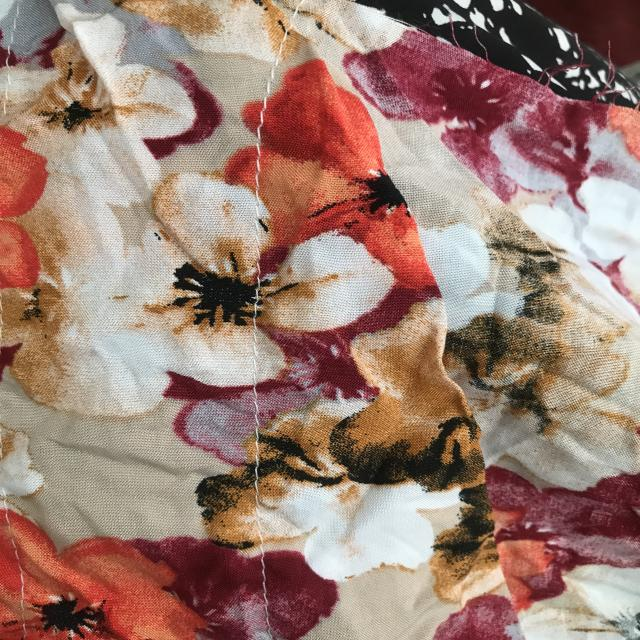good: (243, 387, 283, 499), (248, 104, 273, 202)
